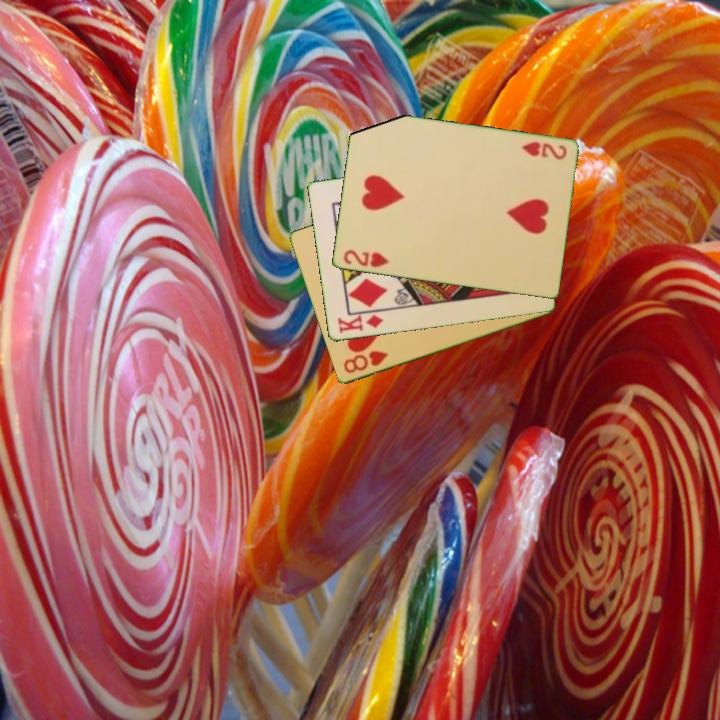2h: (517, 138, 570, 163), (340, 246, 391, 271)
8h: (340, 347, 391, 377)
Kd: (334, 312, 386, 336)
